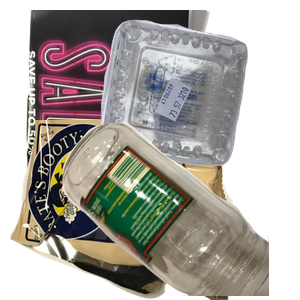glass: (60, 120, 300, 300)
paper: (22, 10, 225, 190)
plastic: (97, 17, 300, 176)
trash: (10, 120, 235, 300)
